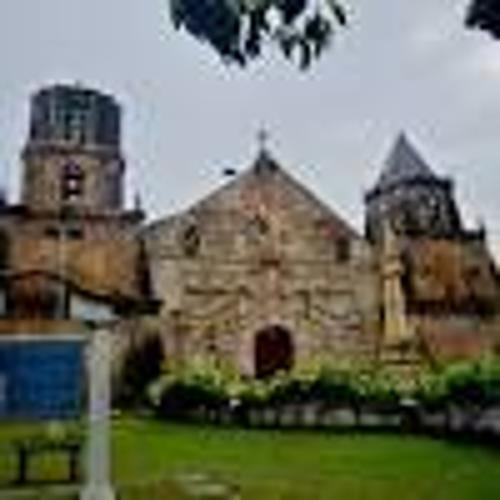Miagao Church: (4, 76, 500, 407)
